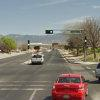Car: (47, 69, 100, 99)
